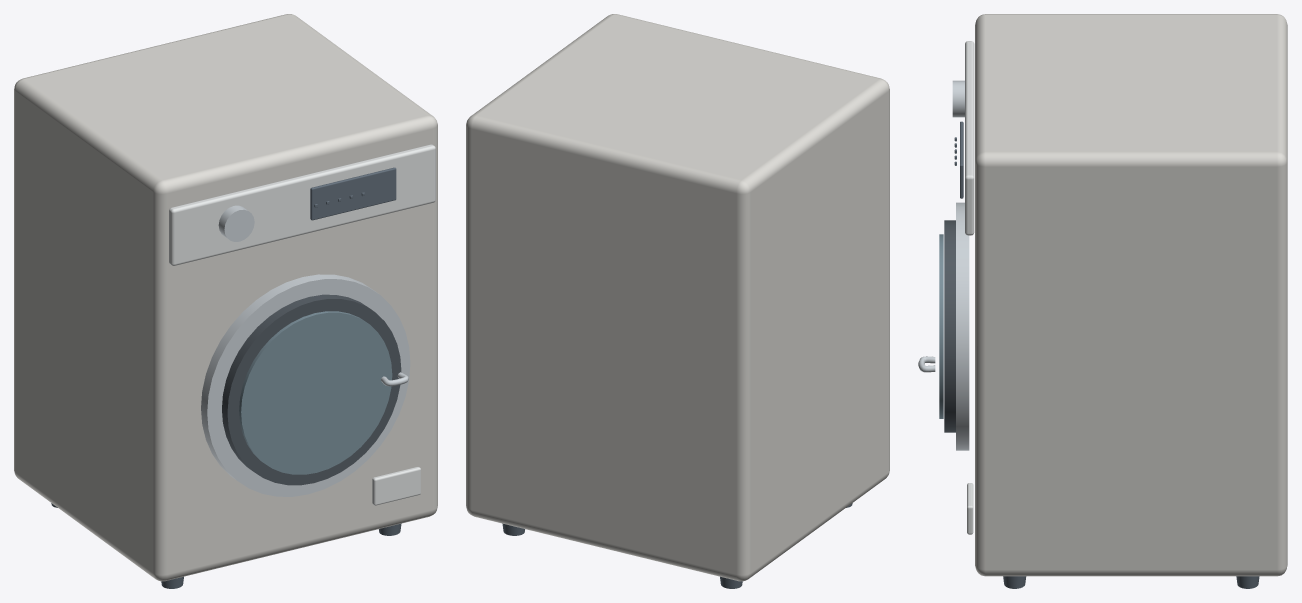
File: washing-machine.glb
3 views of the same model, side by side, from view 1: azimuth 30°, elevation 25°; view 2: azimuth 150°, elevation 25°; view 3: azimuth 270°, elevation 25° (orthographic). The views are drawn at different scales.
Visible parts, largest first — view 1: washing-machine; view 2: washing-machine; view 3: washing-machine.
Boxes of the visible parts, bbox=[...] form: washing-machine: bbox=[14, 14, 437, 588]; washing-machine: bbox=[466, 14, 889, 588]; washing-machine: bbox=[918, 14, 1287, 588].
Size of the model in its own units: 0.6 by 0.85 by 0.64.
